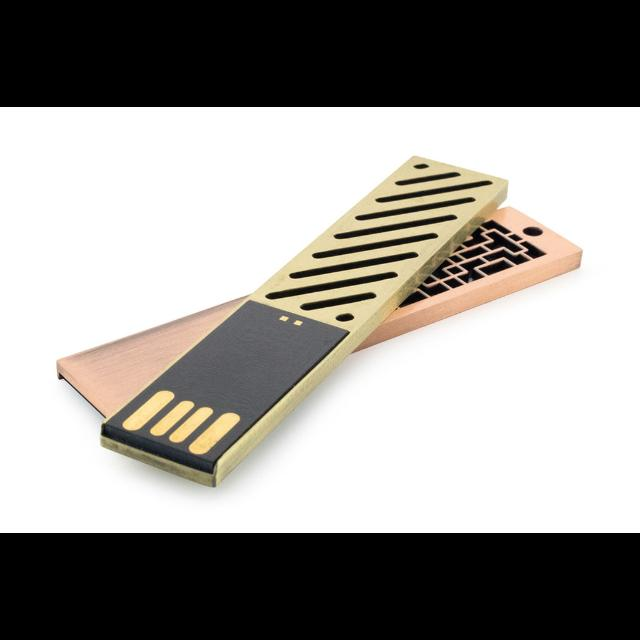USB-Flash-Drive: (60, 147, 514, 501)
